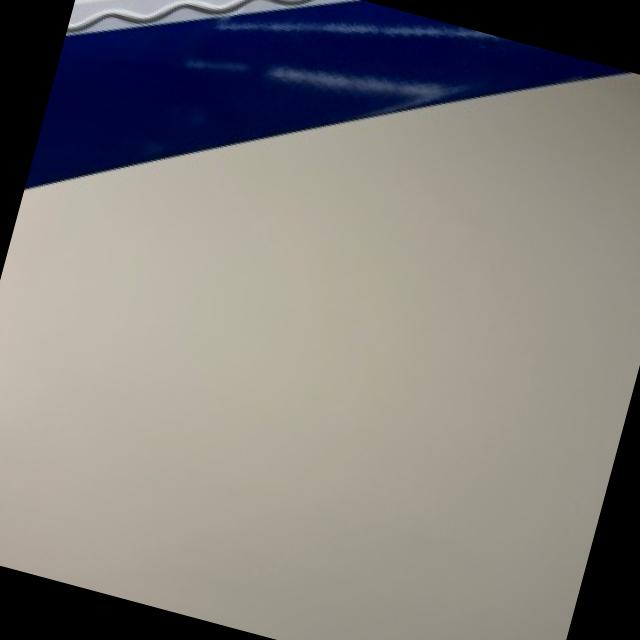healthy: (0, 73, 640, 640), (27, 0, 625, 186)
